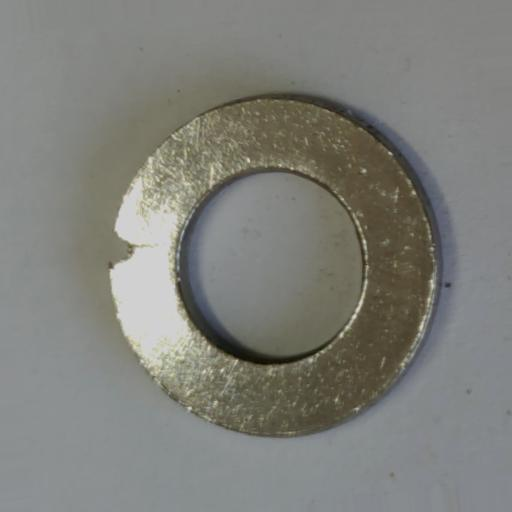burr: (105, 228, 137, 270)
